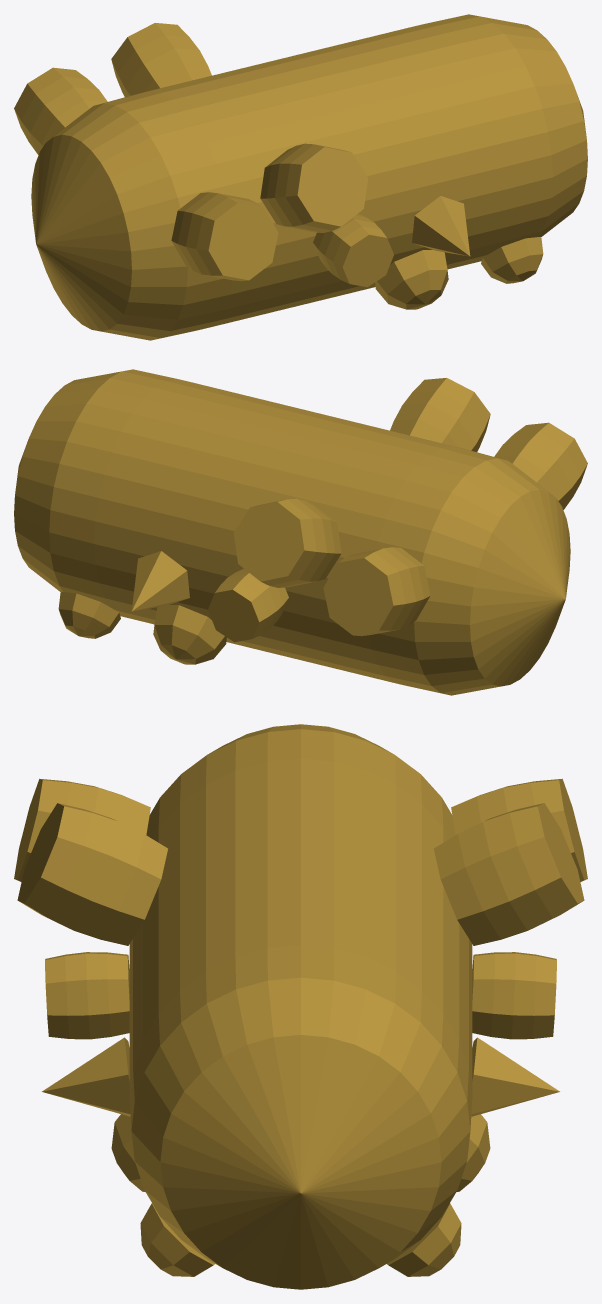
The model's file is exp1_capsule_sym_02.glb.
3 renders of one model, top to bottom at view 1: azimuth 30°, elevation 25°; view 2: azimuth 150°, elevation 25°; view 3: azimuth 270°, elevation 25°, orthographic. The views are drawn at different scales.
Parts seen in each view (by area): view 1: exp1_capsule_sym_02; view 2: exp1_capsule_sym_02; view 3: exp1_capsule_sym_02.
Part boxes in pixels (x1,y1,x2,y2): exp1_capsule_sym_02: (14,14,587,340); exp1_capsule_sym_02: (14,369,587,695); exp1_capsule_sym_02: (14,724,587,1289).
Size of the model in its own units: 3.35 by 1.31 by 2.18.
